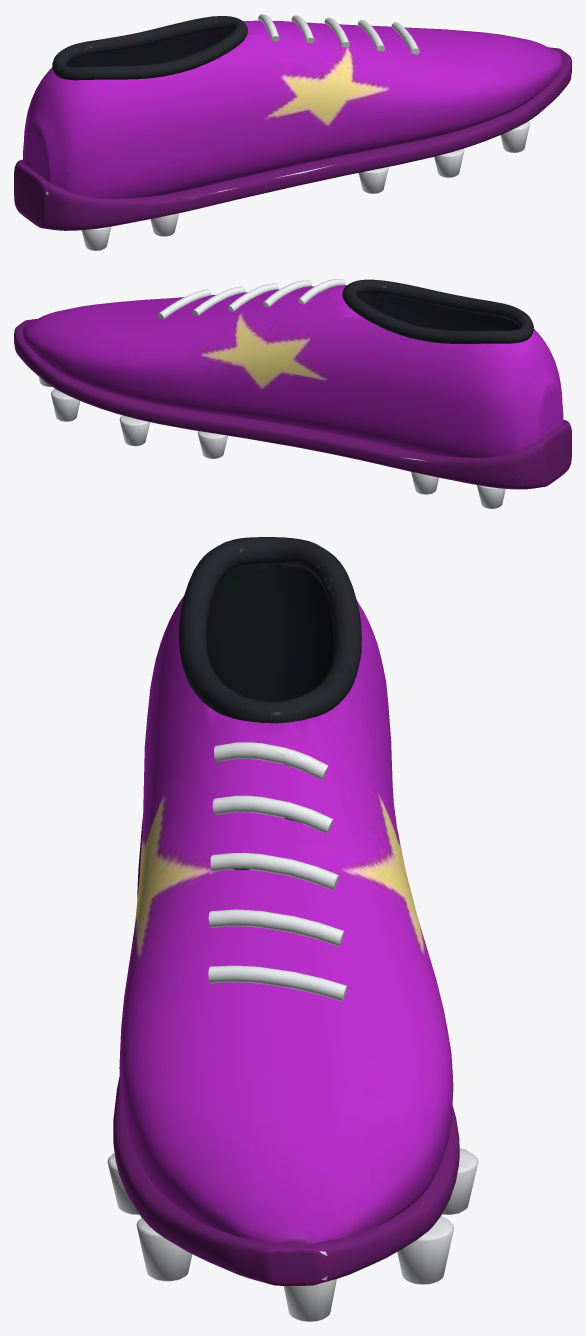
Rendered from boot-maestro.glb.
3 renders of one model, top to bottom at view 1: azimuth 30°, elevation 25°; view 2: azimuth 150°, elevation 25°; view 3: azimuth 270°, elevation 25°, orthographic. The views are drawn at different scales.
Visible parts, largest first — view 1: boot-maestro; view 2: boot-maestro; view 3: boot-maestro.
Boxes of the visible parts, x1=… form: boot-maestro: x1=14, y1=14, x2=571, y2=250; boot-maestro: x1=14, y1=279, x2=571, y2=508; boot-maestro: x1=107, y1=537, x2=478, y2=1321.
Size of the model in its own units: 0.298 by 0.0912 by 0.0901.
6 materials, 6 textured.
